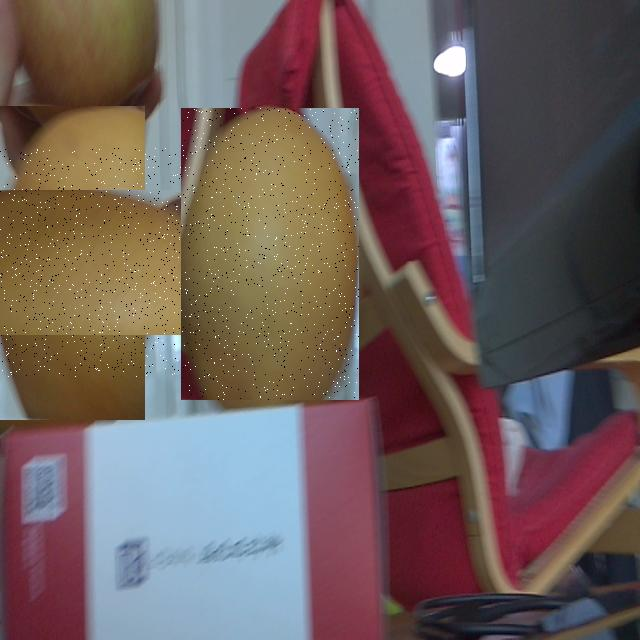pear: (181, 108, 359, 400), (0, 148, 187, 377)
